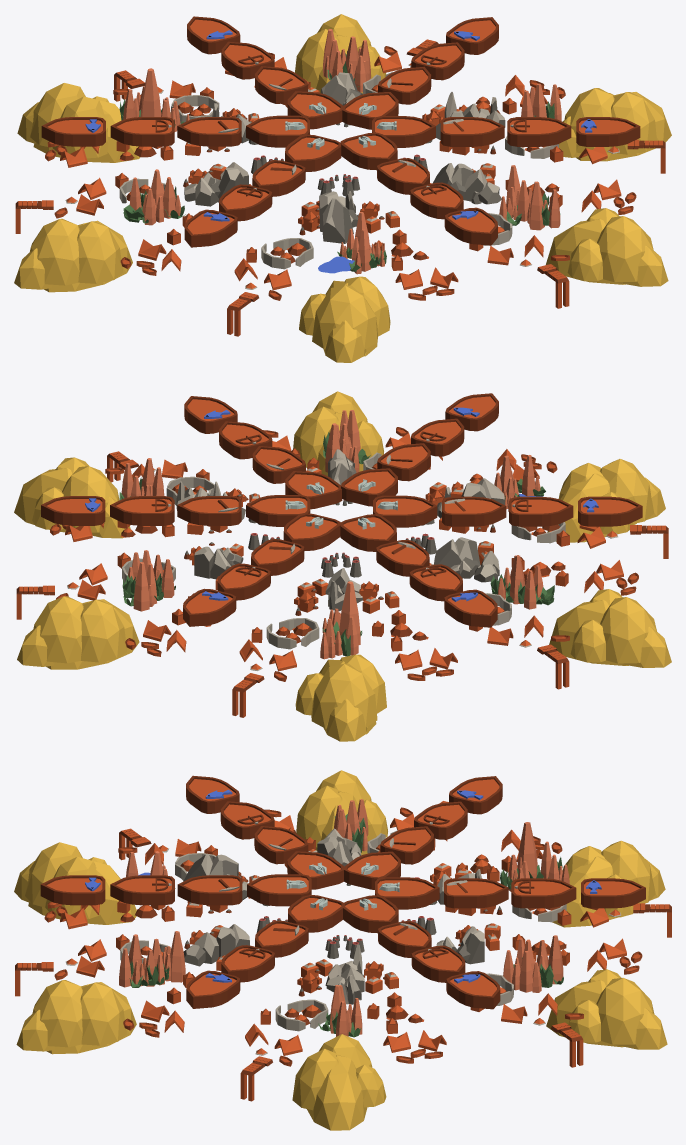
3 views of the same model, one above another, from view 1: azimuth 30°, elevation 25°; view 2: azimuth 150°, elevation 25°; view 3: azimuth 270°, elevation 25° (orthographic).
Parts seen in each view (by area): view 1: Env_Sand1, Env_Sand5, Env_Sand6, Env_Sand4, Env_Sand2, Env_Sand3, Env_Forest1, Env_Forest5, Env_Forest6, Env_Forest3, Icon Stone.002, IconJungle.002 (+33 smaller); view 2: Env_Sand3, Env_Sand5, Env_Sand4, Env_Sand6, Env_Sand2, Env_Sand1, Env_Forest3, Env_Forest4, Env_Forest5, Env_Stone5, IconSand.006, Icon Stone.006 (+33 smaller); view 3: Env_Sand1, Env_Sand3, Env_Sand2, Env_Sand6, Env_Sand4, Env_Sand5, Env_Forest1, Env_Forest3, Env_Forest4, IconJungle.004, Icon Stone.001, IconSand.001 (+32 smaller).
Part boxes in pixels (x1,y1,x2,y2): Env_Sand1: [546, 208, 668, 286]; Env_Sand5: [14, 218, 132, 292]; Env_Sand6: [299, 276, 390, 362]; Env_Sand4: [17, 83, 140, 162]; Env_Sand2: [559, 88, 671, 161]; Env_Sand3: [295, 14, 386, 93]; Env_Forest1: [499, 165, 560, 230]; Env_Forest5: [123, 169, 185, 225]; Env_Forest6: [318, 212, 386, 274]; Env_Forest3: [323, 29, 370, 92]; Icon Stone.002: [440, 117, 504, 146]; IconJungle.002: [507, 117, 571, 146]; Env_Sand3: [17, 596, 139, 669]; Env_Sand5: [549, 589, 671, 667]; Env_Sand4: [295, 654, 386, 741]; Env_Sand6: [547, 459, 665, 542]; Env_Sand2: [14, 457, 130, 538]; Env_Sand1: [293, 391, 383, 476]; Env_Forest3: [122, 550, 175, 611]; Env_Forest4: [320, 581, 362, 659]; Env_Forest5: [490, 555, 554, 609]; Env_Stone5: [434, 537, 499, 582]; IconSand.006: [578, 496, 642, 526]; Icon Stone.006: [442, 496, 506, 526]; Env_Sand1: [16, 980, 136, 1054]; Env_Sand3: [546, 969, 667, 1049]; Env_Sand2: [292, 1034, 386, 1130]; Env_Sand6: [14, 842, 136, 924]; Env_Sand4: [552, 840, 665, 927]; Env_Sand5: [296, 770, 387, 855]; Env_Forest1: [119, 931, 185, 987]; Env_Forest3: [503, 935, 563, 992]; Env_Forest4: [500, 822, 569, 891]; IconJungle.004: [511, 878, 576, 908]; Icon Stone.001: [177, 875, 242, 905]; IconSand.001: [40, 875, 105, 905].
Bounding box in the file's own units: 2176 × 314 × 1892.
